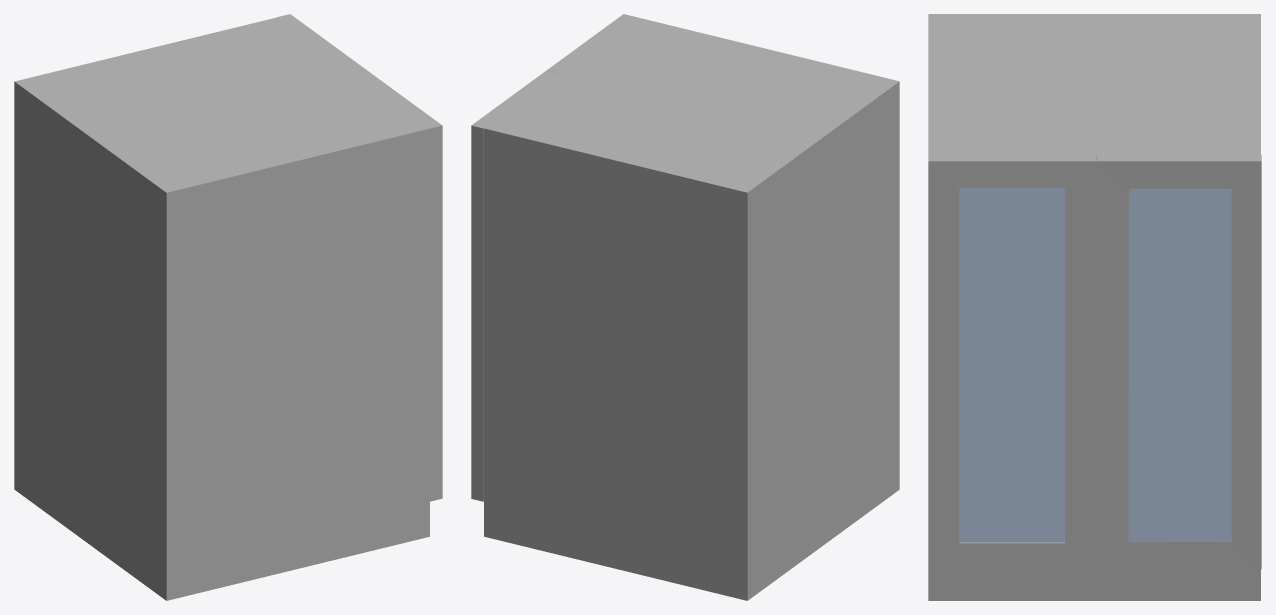
File: irinin_frizder.fbx
The picture shows the model from 3 angles, left to right: view 1: azimuth 30°, elevation 25°; view 2: azimuth 150°, elevation 25°; view 3: azimuth 270°, elevation 25°; orthographic projection. The views are drawn at different scales.
Parts seen in each view (by area): view 1: Cube, Cube.046, Plane.018; view 2: Cube, Plane.018, Cube.046; view 3: Cube.046, Plane.018, Cube.
Boxes of the visible parts, x1=… form: Cube: x1=14, y1=17, x2=429, y2=600; Cube.046: x1=354, y1=69, x2=442, y2=501; Plane.018: x1=278, y1=14, x2=365, y2=72; Cube: x1=484, y1=17, x2=899, y2=600; Plane.018: x1=471, y1=70, x2=558, y2=501; Cube.046: x1=547, y1=14, x2=635, y2=72; Cube.046: x1=928, y1=154, x2=1095, y2=569; Plane.018: x1=1096, y1=154, x2=1261, y2=569; Cube: x1=928, y1=14, x2=1260, y2=600.
Size of the model in its own units: 209 by 296 by 200.
